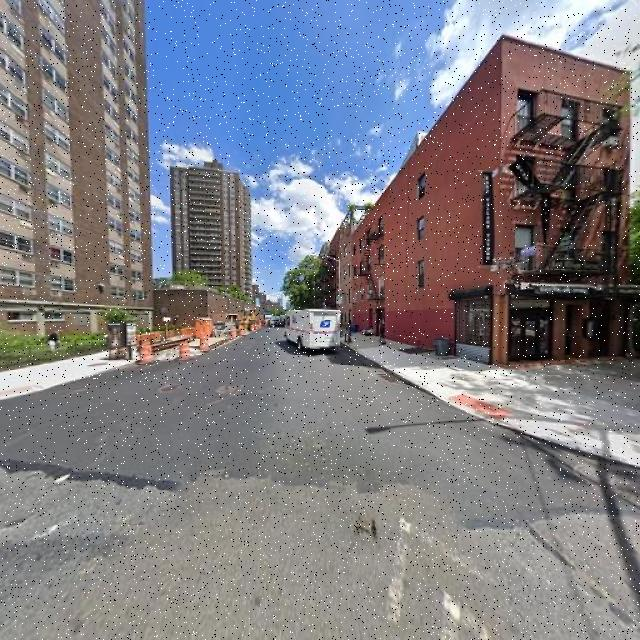Building: (353, 32, 628, 367), (1, 1, 152, 358)
